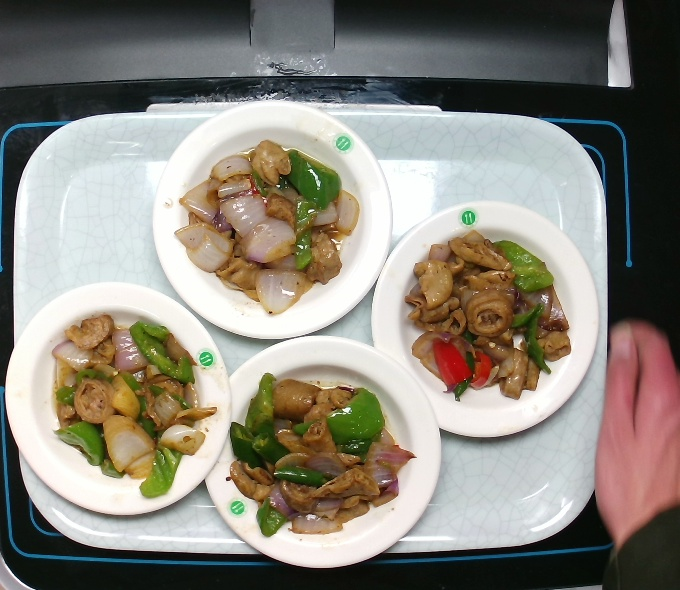wcq-QingJiaoChaoDaChang: (171, 136, 367, 320), (47, 307, 223, 502), (224, 367, 419, 539), (397, 226, 575, 405)
